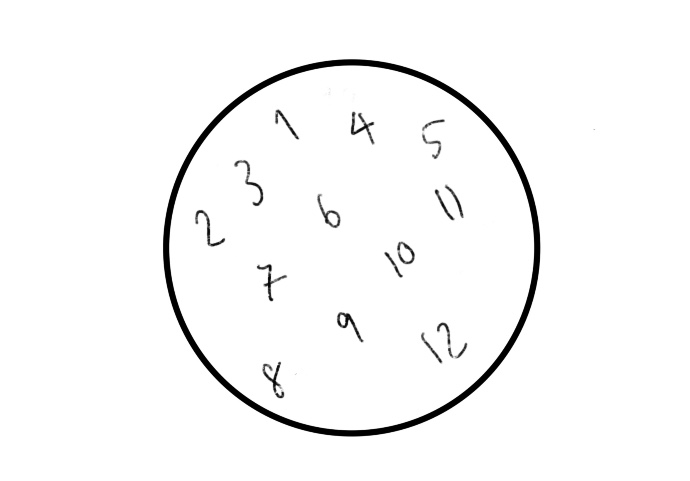eight: (264, 358, 289, 401)
eleven: (433, 177, 466, 222)
five: (418, 119, 450, 161)
four: (350, 106, 377, 147)
nine: (334, 305, 366, 348)
one: (271, 105, 304, 145)
seven: (257, 254, 285, 303)
six: (315, 185, 343, 231)
ten: (383, 239, 416, 279)
three: (234, 154, 265, 205)
twelve: (419, 321, 468, 364)
two: (189, 205, 227, 247)
